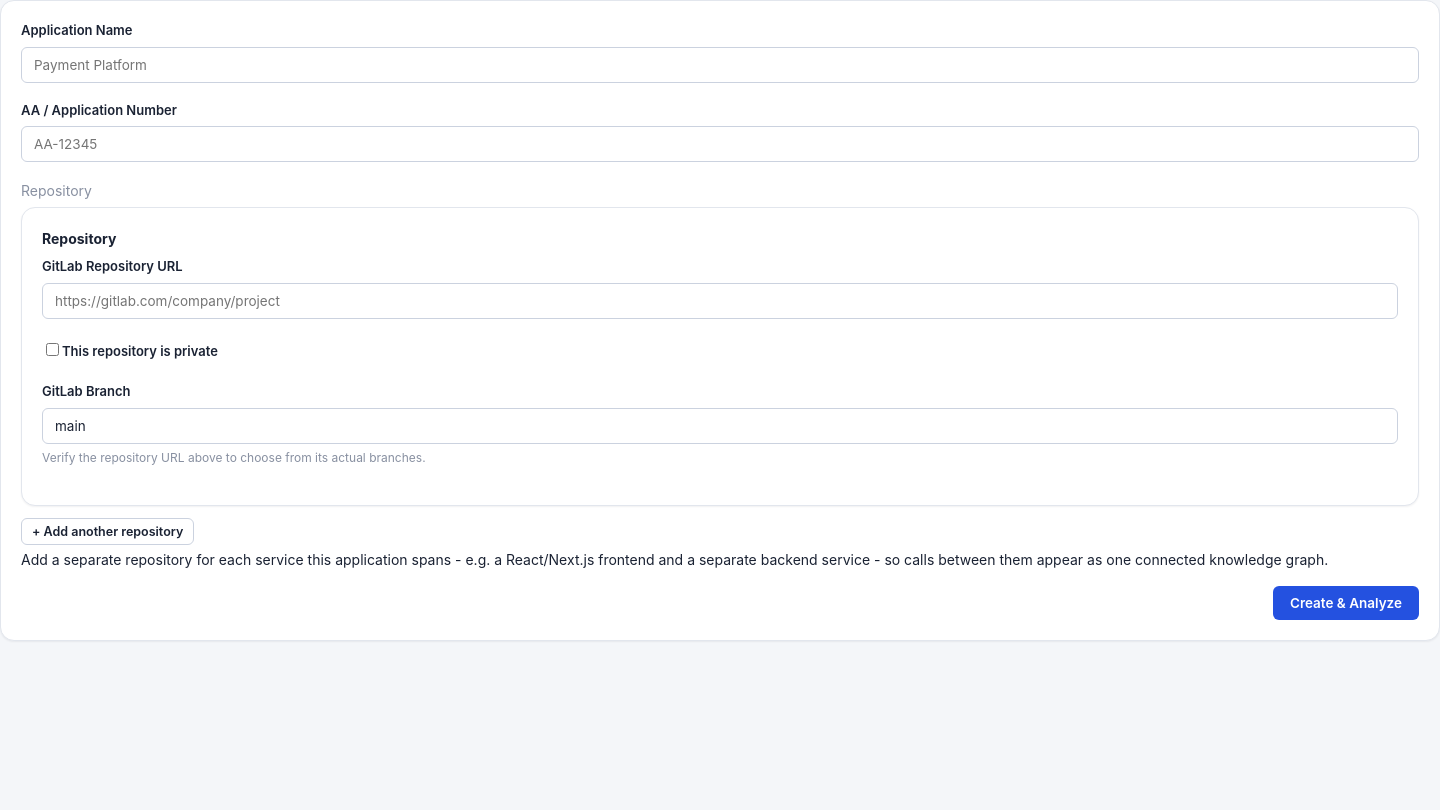
Test case: ApplicationForm › requires an access token once a repository is marked private
The image size is (1440, 810).
In the field labelled "Application Name": (720, 64) [21,46,1419,82], type "X"
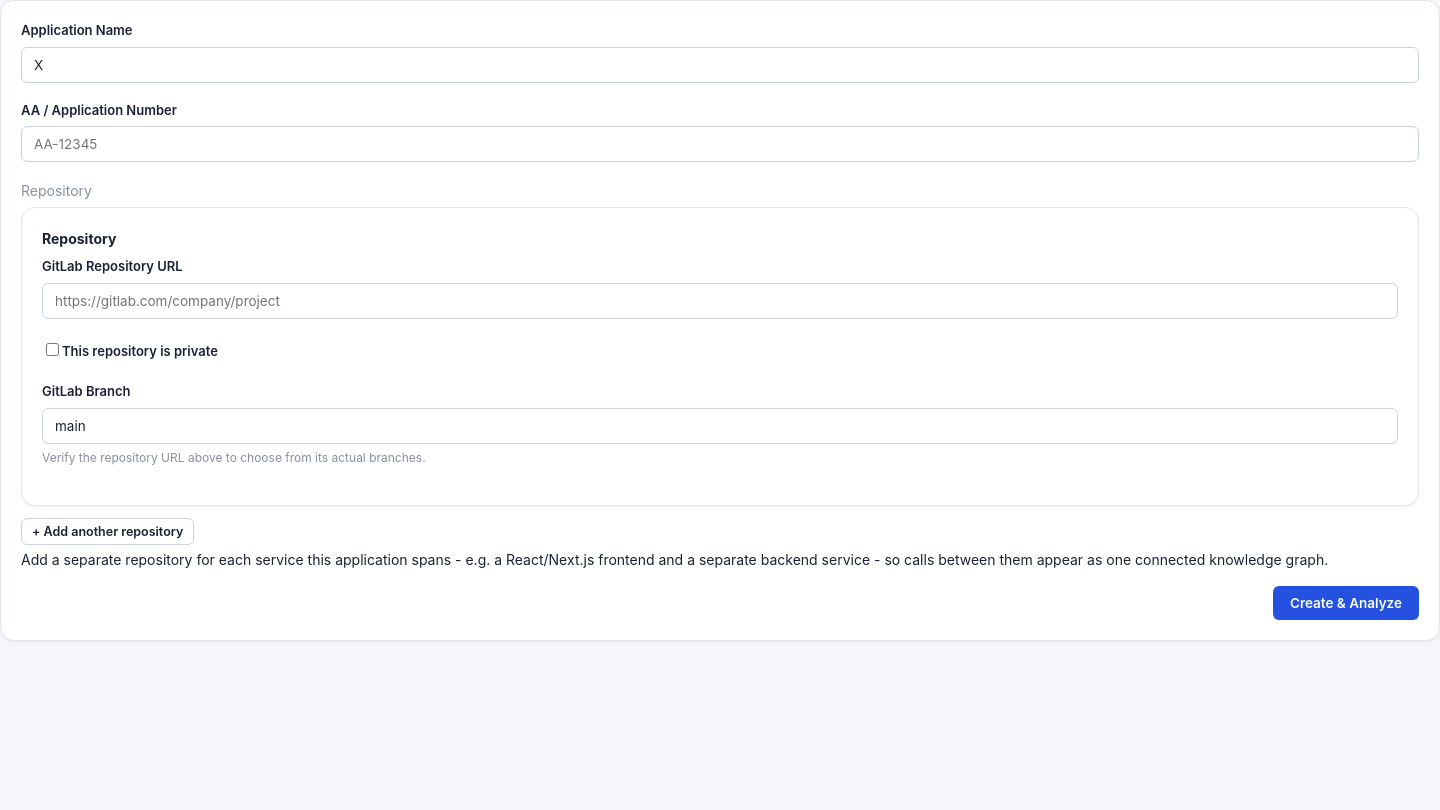
In the field labelled "AA / Application Number": (720, 144) [21,126,1419,162], type "AA-1"
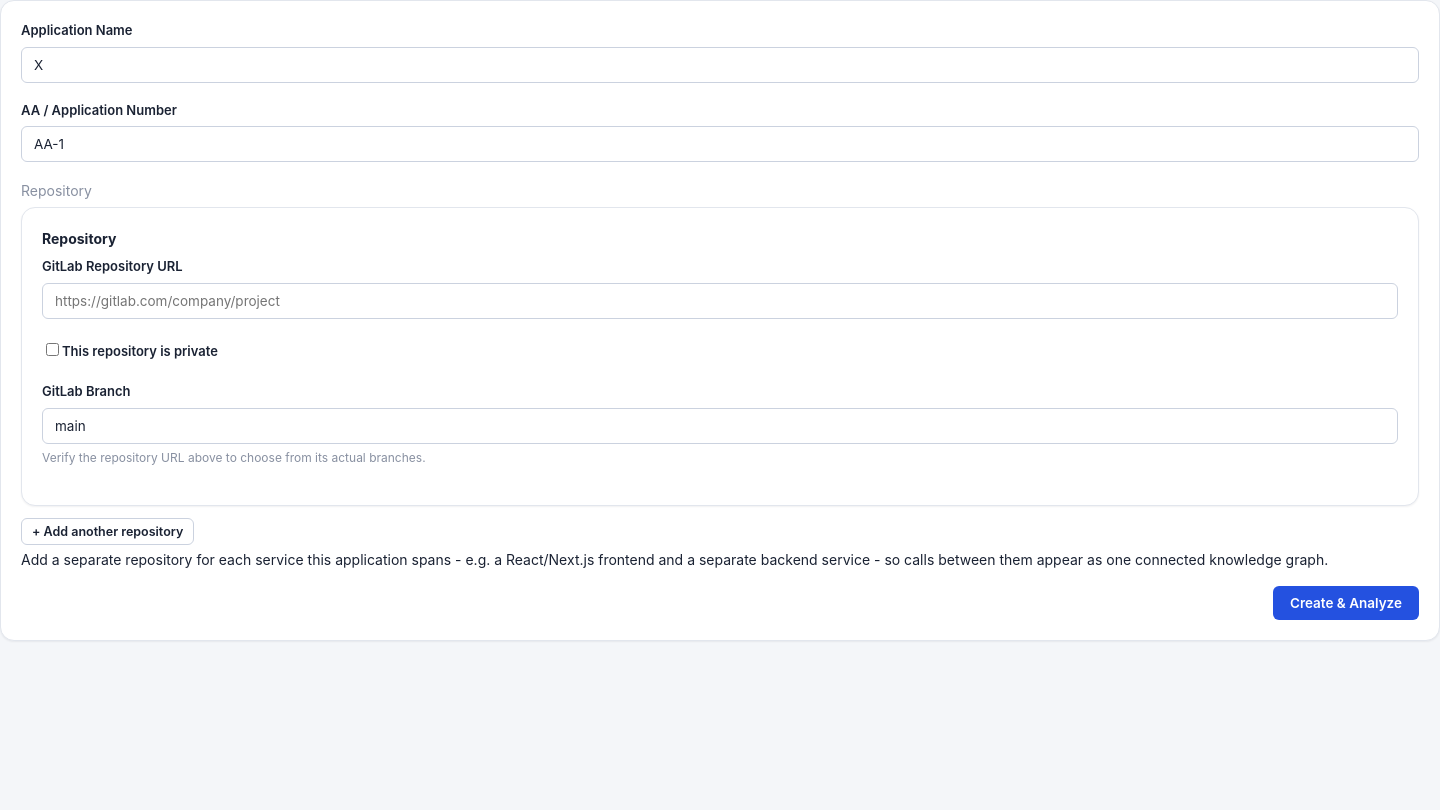
In the field labelled "GitLab Repository URL": (720, 300) [42,282,1398,318], type "https://gitlab.com/team/secret"
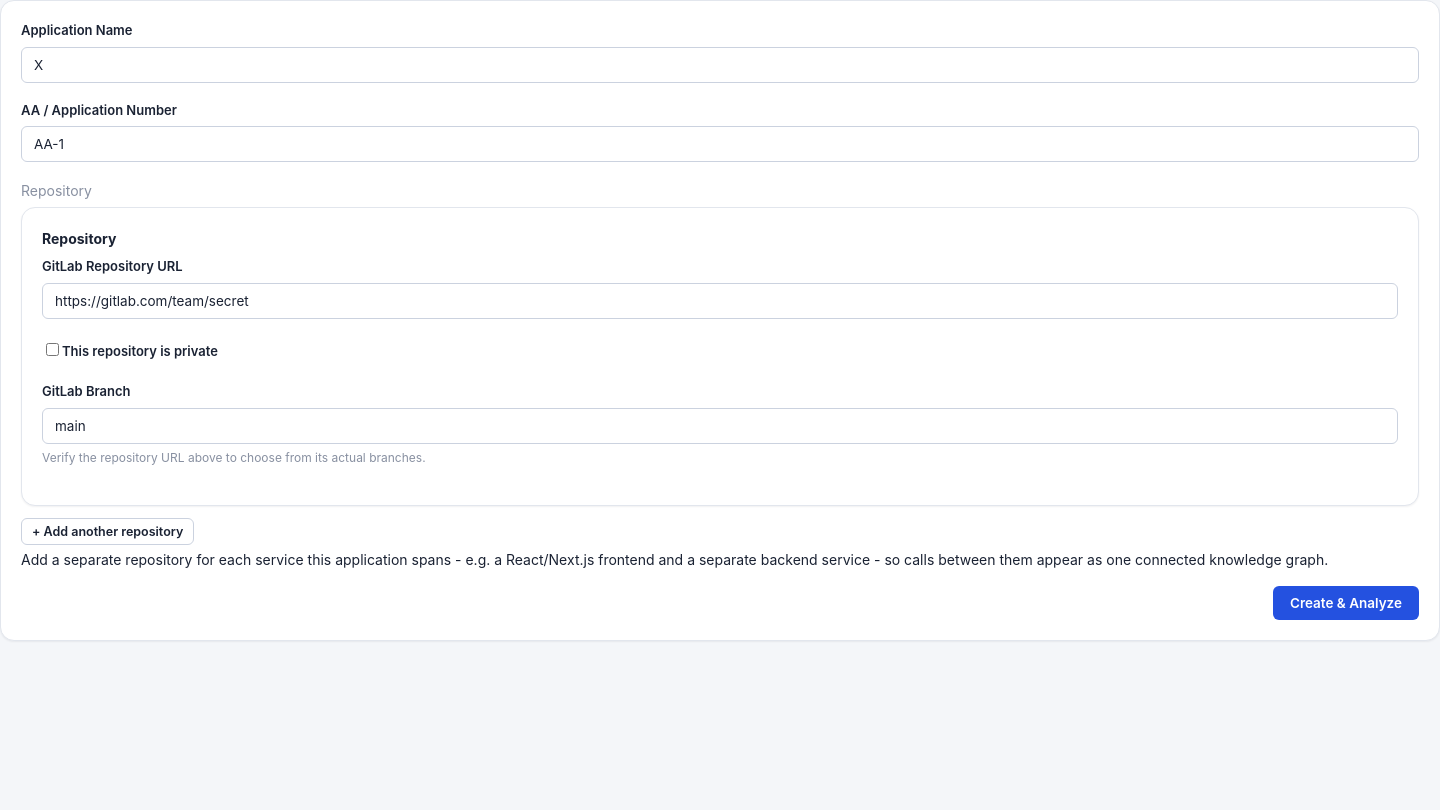
Click the checkbox labelled "This repository is private": (52, 349) [46,342,59,356]
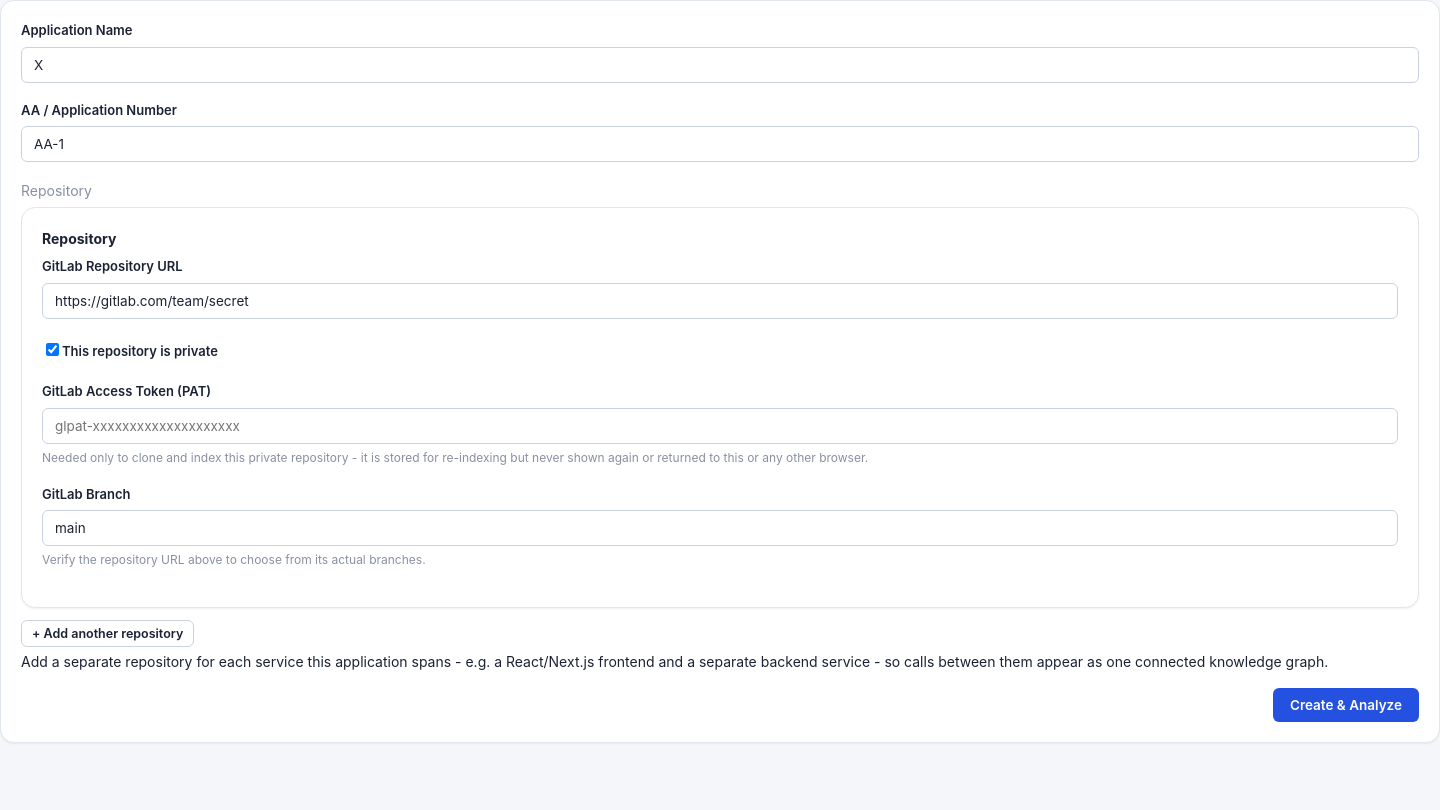
Click the button "Create & Analyze": (1346, 705) [1273,688,1419,722]
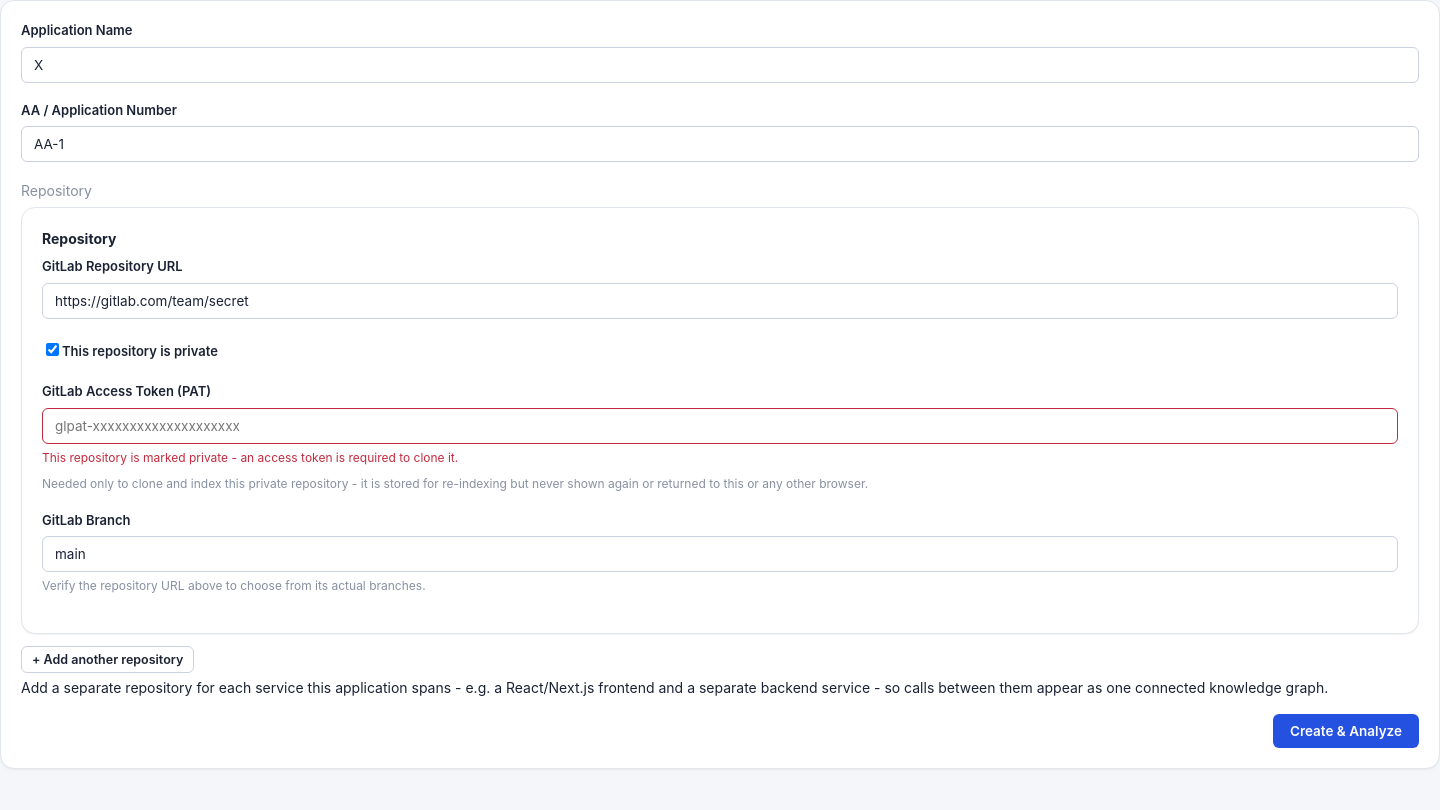
Expected: the text "This repository is marked private - an access token is required to clone it." is shown, [42,450,458,464]
